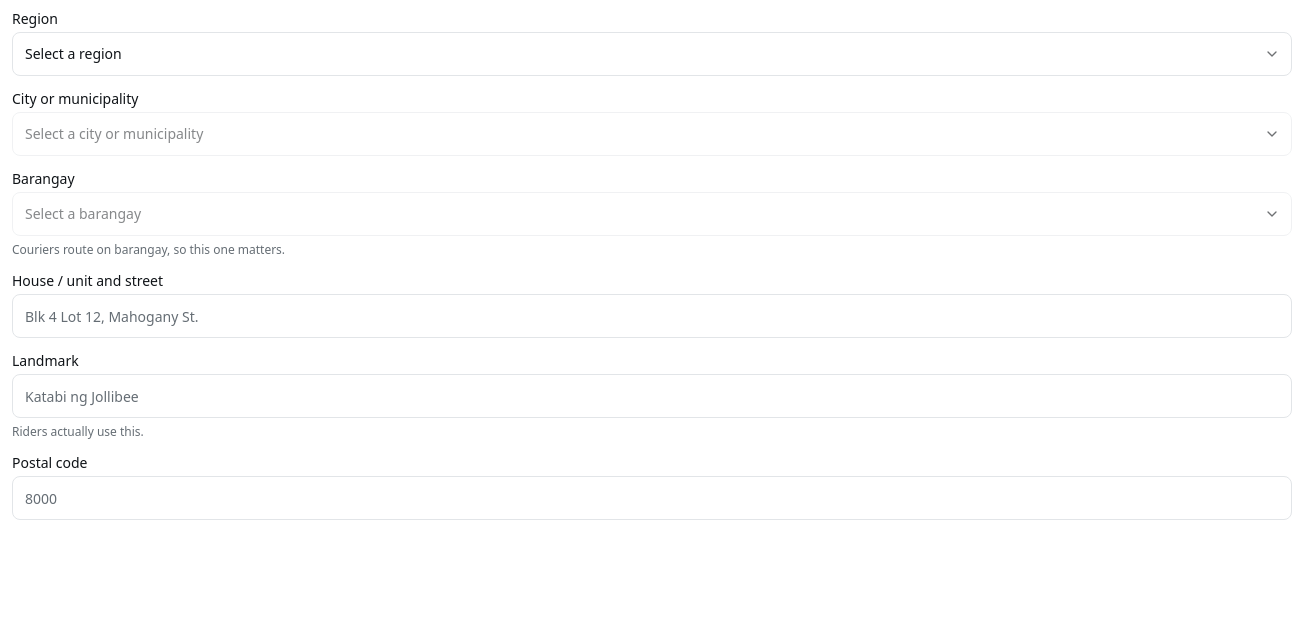
Scenario: PhAddressPicker › shows a province step for a region that has provinces
The image size is (1304, 639).
Select "Davao Region (Region XI)" in the dropdown labelled "Region": x=652, y=54 [12, 32, 1292, 76]
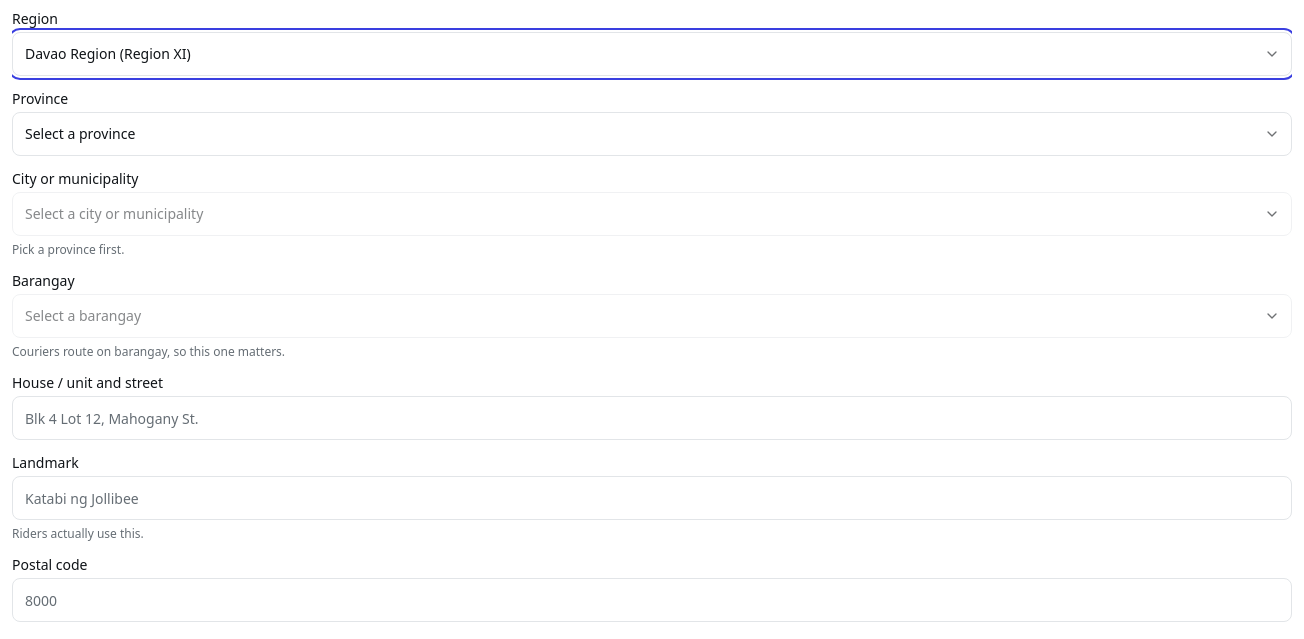
Expected: the dropdown labelled "Province" is shown, [12, 112, 1292, 156]
